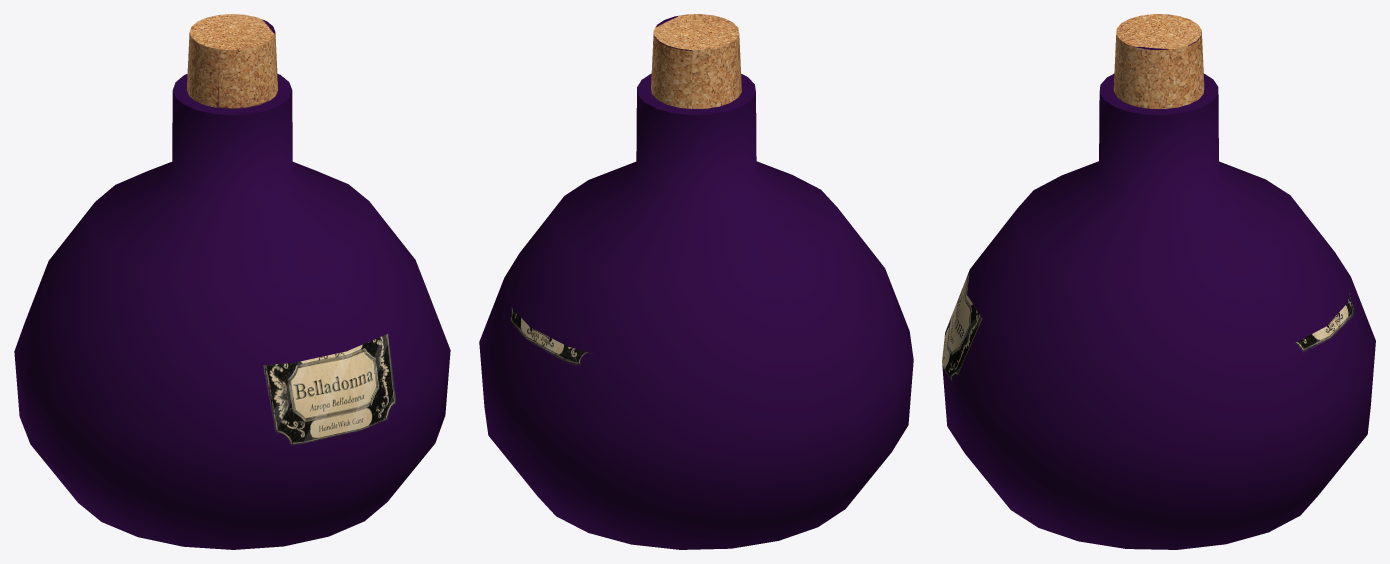
The model's file is Potion Purple.fbx.
3 views of the same model, side by side, from view 1: azimuth 30°, elevation 25°; view 2: azimuth 150°, elevation 25°; view 3: azimuth 270°, elevation 25° (orthographic).
Visible parts, largest first — view 1: pCylinder9; view 2: pCylinder9; view 3: pCylinder9.
Boxes of the visible parts, x1,y1,x2,y2 form: pCylinder9: (14, 14, 450, 549); pCylinder9: (479, 14, 913, 549); pCylinder9: (942, 14, 1375, 549).
Size of the model in its own units: 0.6808 by 0.8447 by 0.6808.
